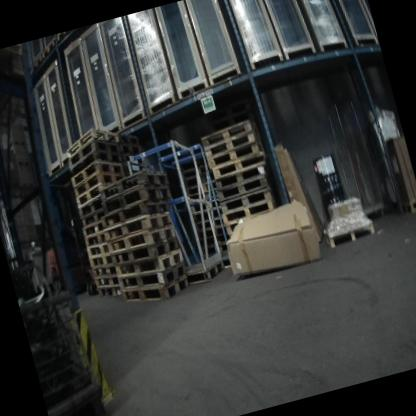pallet: (101, 179, 176, 222), (98, 162, 170, 205), (62, 143, 125, 187), (110, 234, 183, 271), (121, 271, 192, 308), (111, 246, 186, 281), (104, 208, 175, 244), (106, 223, 176, 258), (116, 259, 187, 292), (105, 197, 171, 231), (322, 212, 377, 250), (69, 155, 126, 190), (60, 124, 118, 157), (64, 136, 122, 169), (198, 115, 256, 147), (206, 139, 263, 170), (201, 128, 259, 158), (209, 150, 267, 179), (217, 187, 275, 215), (220, 197, 276, 224), (213, 175, 270, 201), (213, 162, 267, 189), (70, 170, 117, 201), (185, 259, 227, 287), (0, 44, 27, 82), (76, 191, 111, 216), (73, 183, 110, 205), (80, 218, 111, 238), (181, 162, 212, 182), (194, 214, 224, 234), (187, 189, 217, 208), (185, 180, 218, 197), (189, 196, 219, 214), (184, 171, 213, 189), (198, 231, 227, 249), (192, 207, 222, 223), (202, 249, 230, 266), (94, 271, 119, 290), (79, 208, 108, 224), (201, 241, 229, 257), (89, 253, 112, 272), (196, 226, 225, 241), (96, 282, 120, 300), (84, 233, 109, 250), (38, 38, 58, 58), (87, 244, 111, 259), (28, 54, 46, 72), (92, 266, 114, 279), (400, 198, 416, 215), (224, 222, 240, 236), (56, 30, 69, 40)
stillage: (18, 287, 103, 416)
